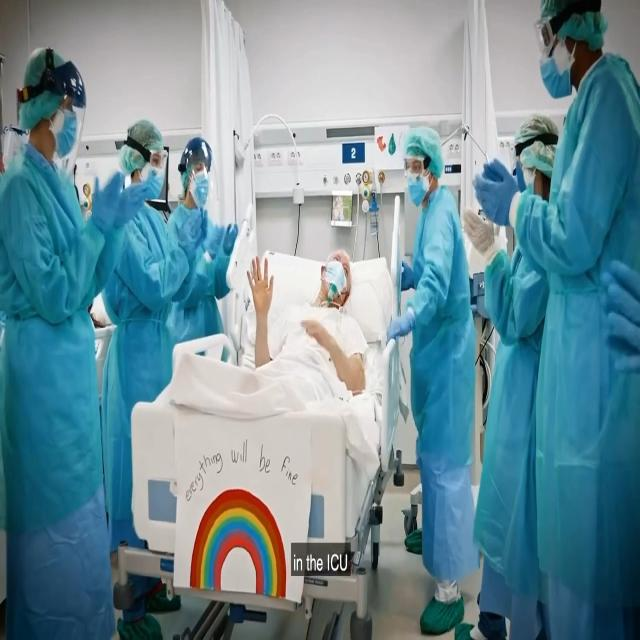Movement-Yes: (240, 218, 371, 395)
